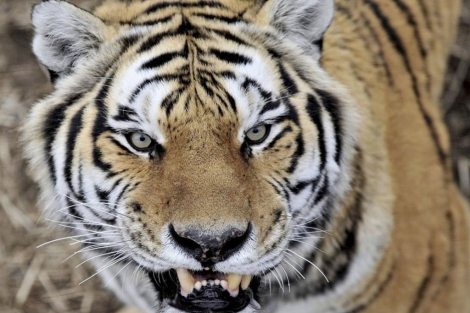Tigrew: (21, 6, 382, 312)
